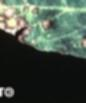Tomato Septoria leaf spot: (0, 0, 86, 78)
